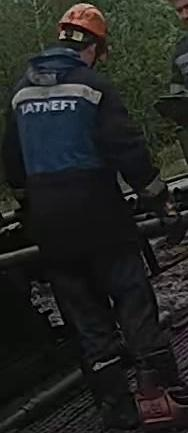gloves: (135, 178, 187, 247)
helmet: (57, 2, 108, 43)
vest: (9, 50, 134, 252)
